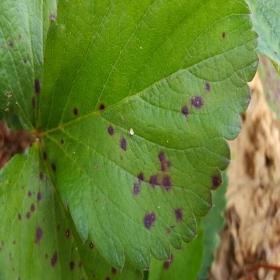Leaf Spot: (39, 0, 260, 273), (0, 138, 147, 279), (147, 173, 230, 279)
